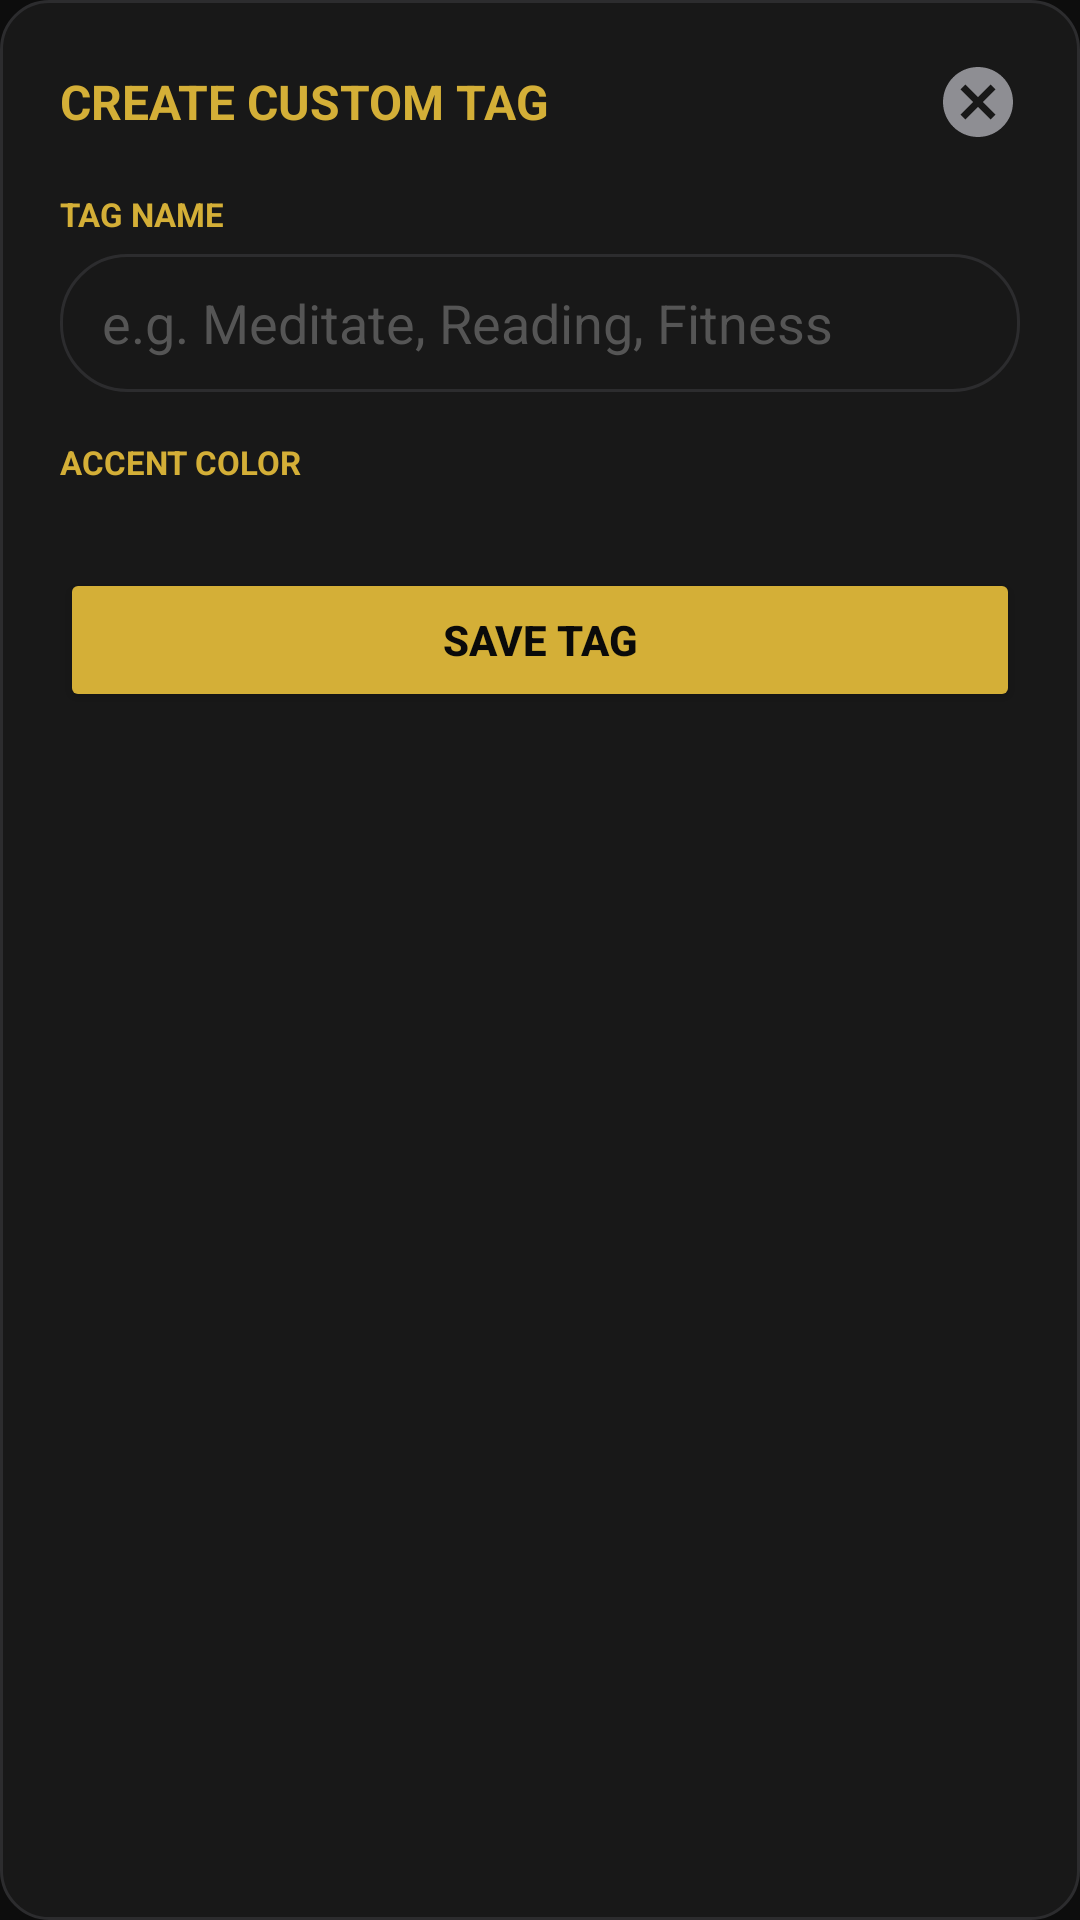

Named icons in this screenshot (1080px×1920px) and their centers, point (x, y):
Cancel: point (978, 102)
